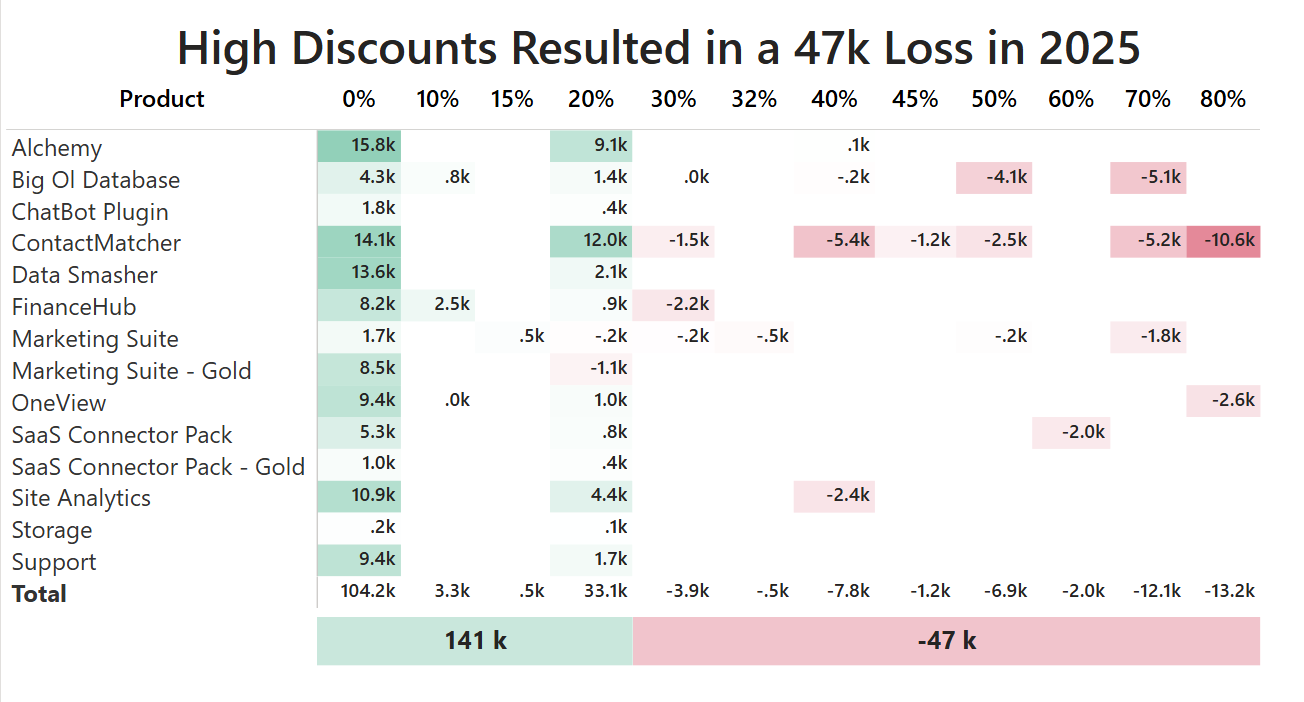

The page's visual inventory and layout, read from the dashboard file:
{"tool":"powerbi","page":{"name":"Loss Table","canvas":[1280,720],"ordinal":4},"visuals":[{"type":"pivotTable","title":"High Discounts Resulted in a 47k Loss in 2025","fields":{"Rows":["AWS-SaaS-Sales.Product"],"Columns":["AWS-SaaS-Sales.Discount"],"Values":["Sum(AWS-SaaS-Sales.Profit)"]},"box":[0,35,1280,671.1],"z":0},{"type":"textbox","box":[307.4,621,307.4,46.7],"z":1000},{"type":"textbox","box":[614.7,621.5,609.8,46.7],"z":2000}]}

Visuals, with their boxes on the page's 1280x720 design canvas (x1, y1, x2, y2). These are canvas units, not pixel positions in the 1304x702 screenshot, which may show the page scaled, cropped or inside an application window:
"High Discounts Resulted in a 47k Loss in 2025" pivotTable: region(0, 35, 1280, 706)
textbox: region(307, 621, 615, 668)
textbox: region(615, 622, 1224, 668)
